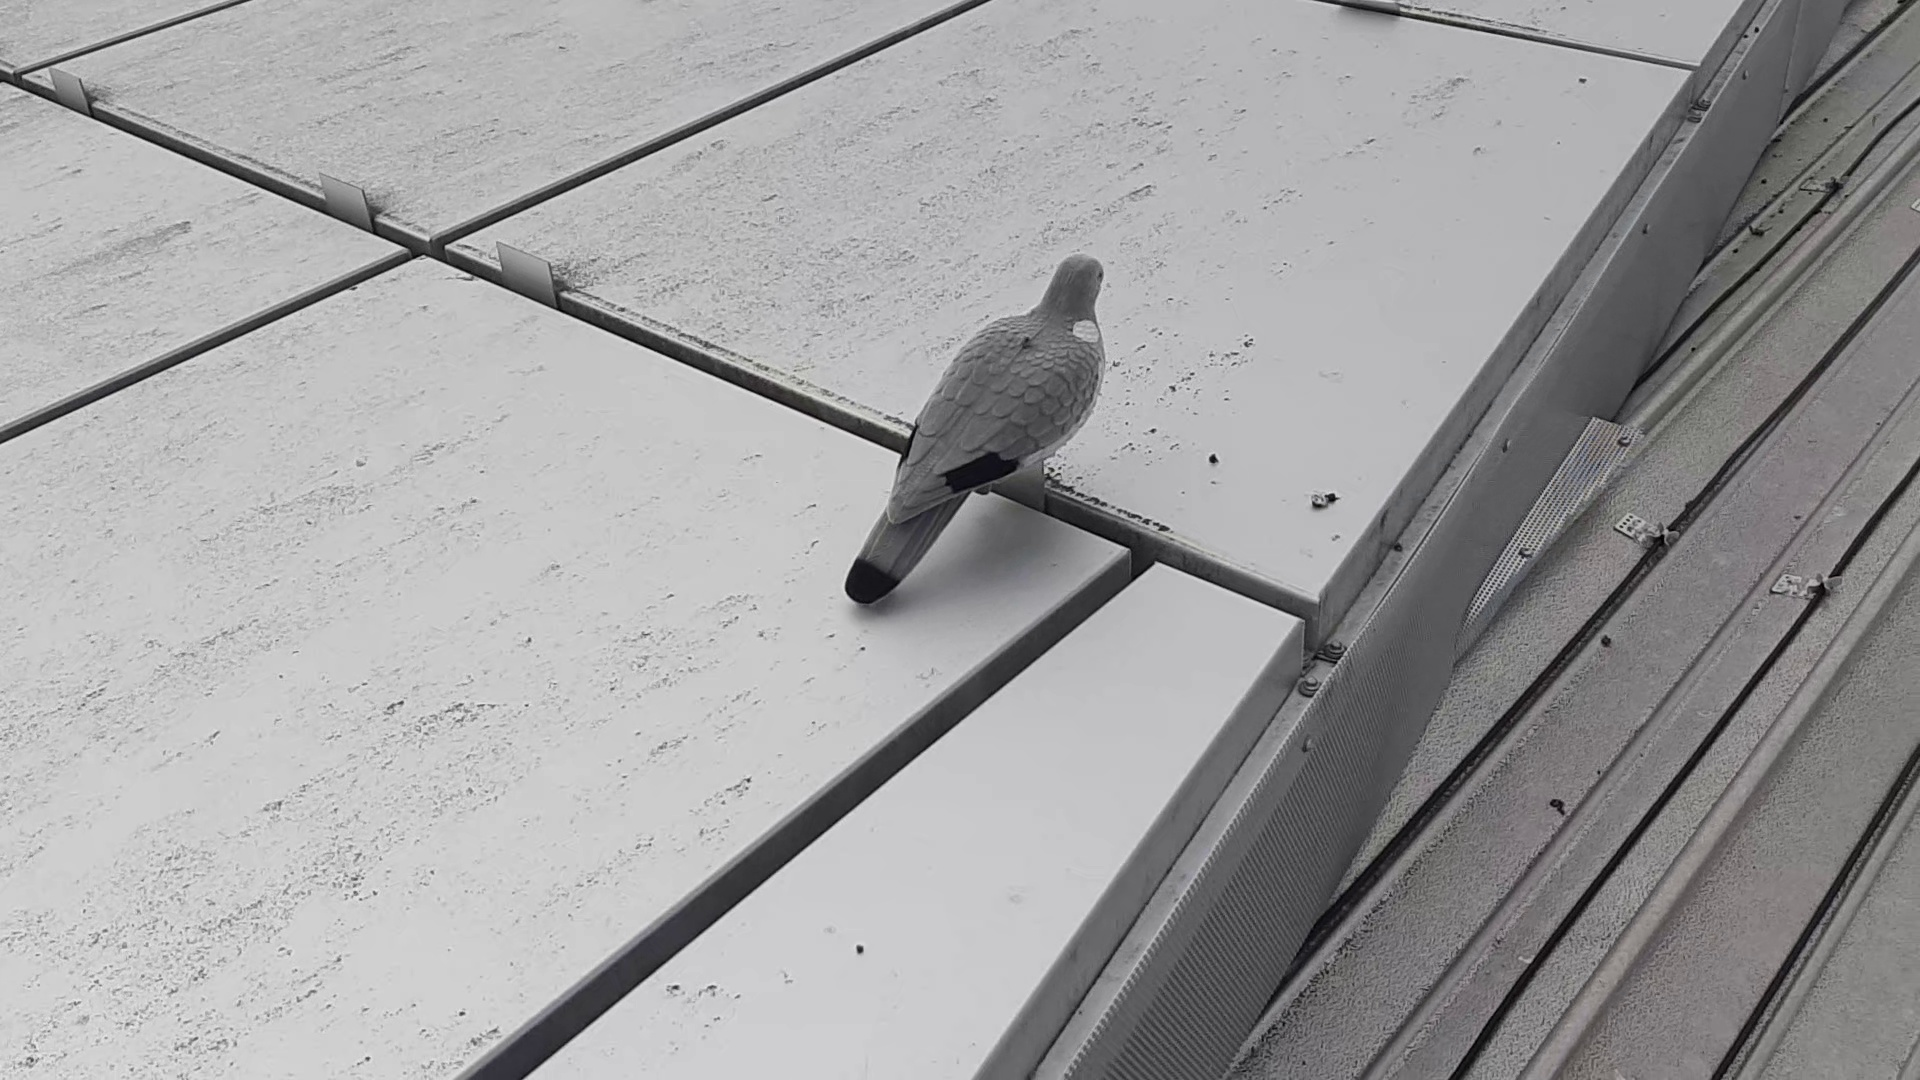Pigeon: (847, 243, 1116, 624)
